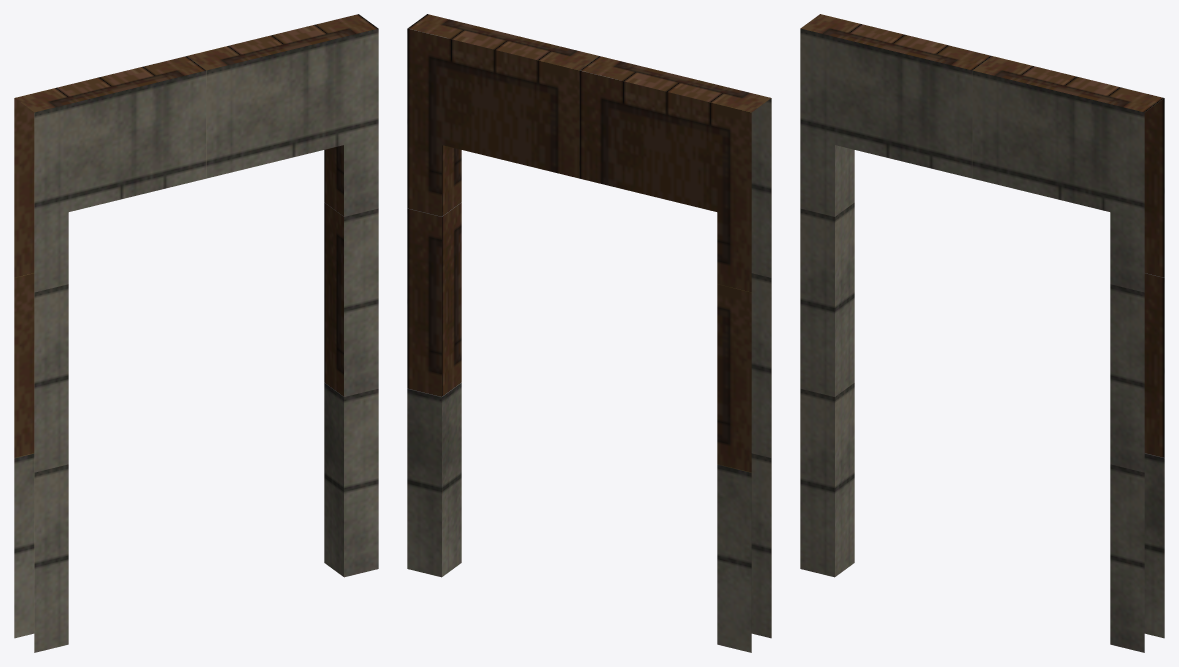
Rendered from SM_wall_doorway_front.fbx.
The picture shows the model from 3 angles, left to right: view 1: azimuth 30°, elevation 25°; view 2: azimuth 150°, elevation 25°; view 3: azimuth 330°, elevation 25°; orthographic projection.
Visible parts, largest first — view 1: wall_doorway_front; view 2: wall_doorway_front; view 3: wall_doorway_front.
Boxes of the visible parts, x1=… form: wall_doorway_front: x1=14, y1=14, x2=378, y2=652; wall_doorway_front: x1=407, y1=14, x2=771, y2=652; wall_doorway_front: x1=800, y1=14, x2=1164, y2=652.
Bounding box in the file's own units: 2 × 3 × 0.2.
